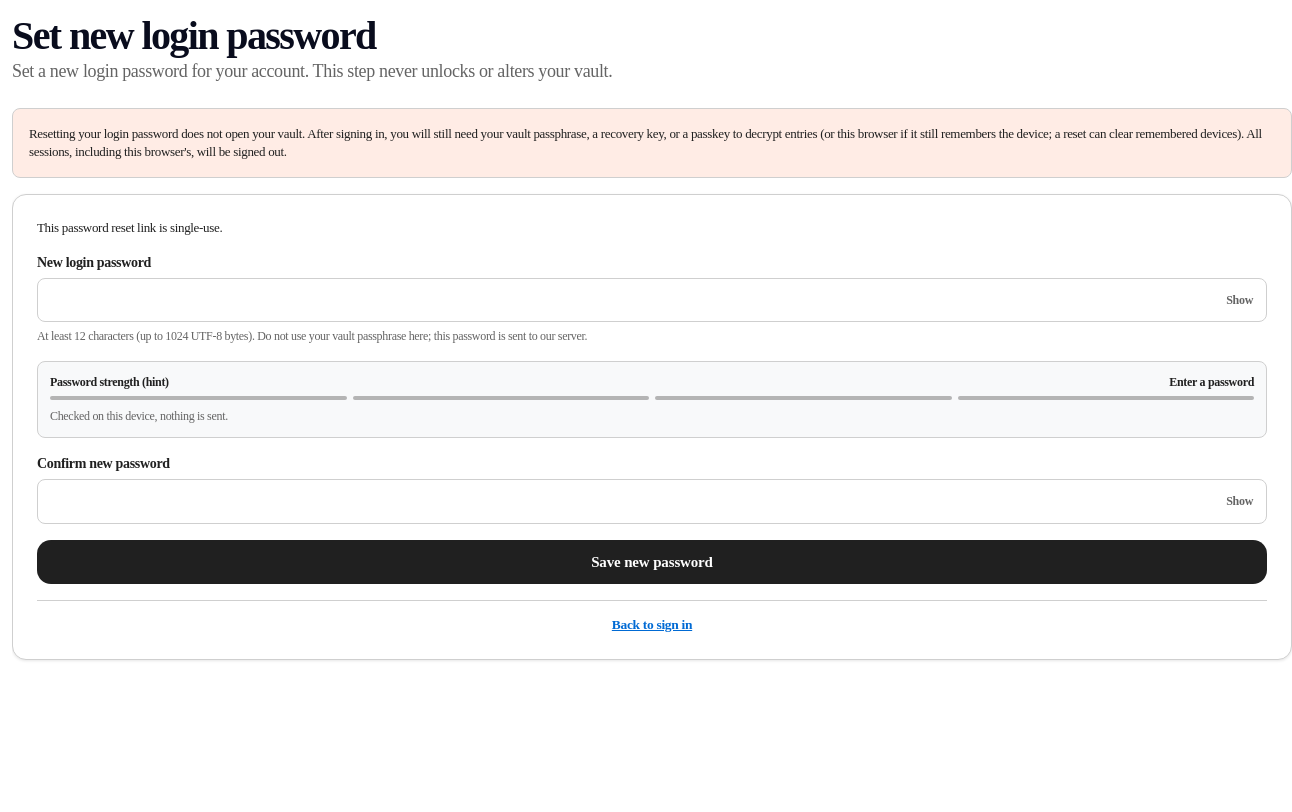
Test case: ResetPasswordForm token lifecycle, strict mode, and problem-code mapping (ADR 0006 §6.1-6.2, §9.2) › maps 400 reset_token_invalid to the invalid/expired token card and clears in-memory token
In the password field labelled "New login password": (652, 300) [37,278,1267,322], type "StrongReplacementPassword!2026"
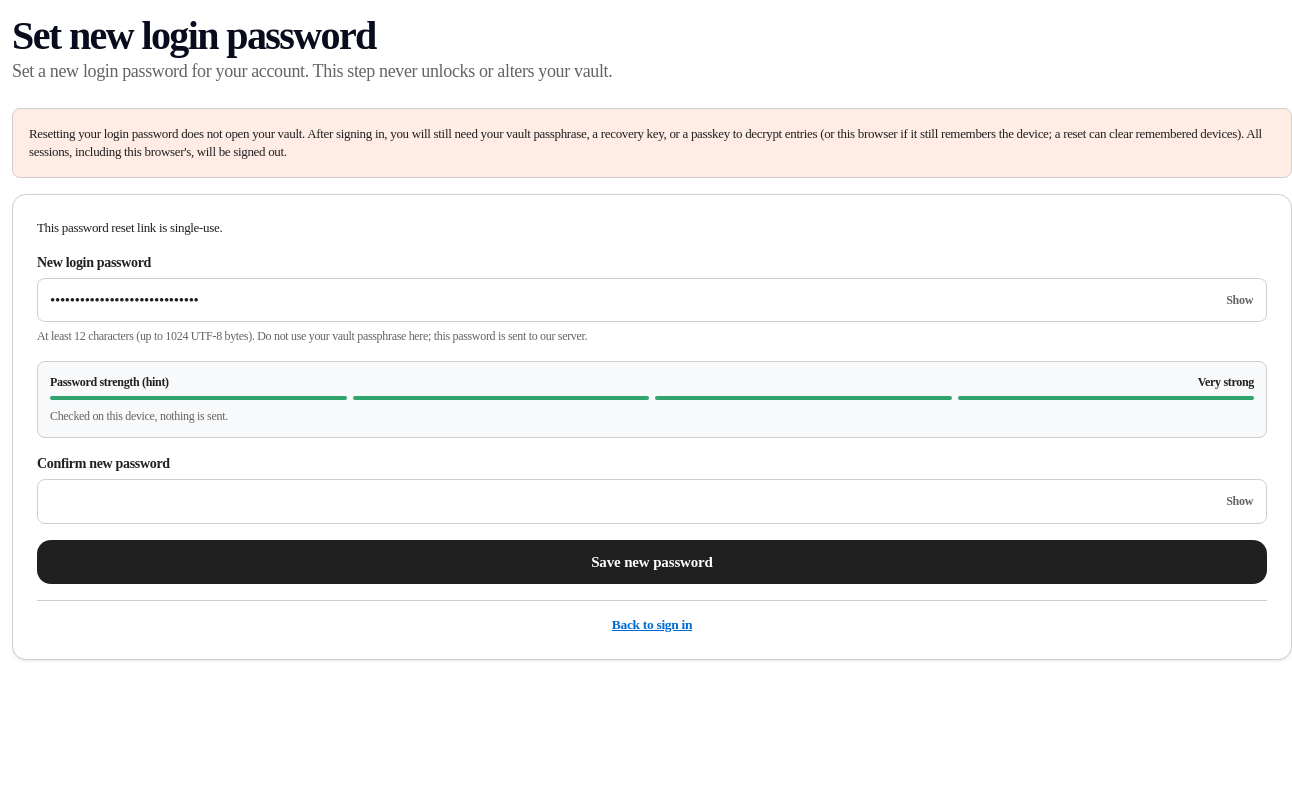
In the password field labelled "Confirm new password": (652, 502) [37,479,1267,524], type "StrongReplacementPassword!2026"
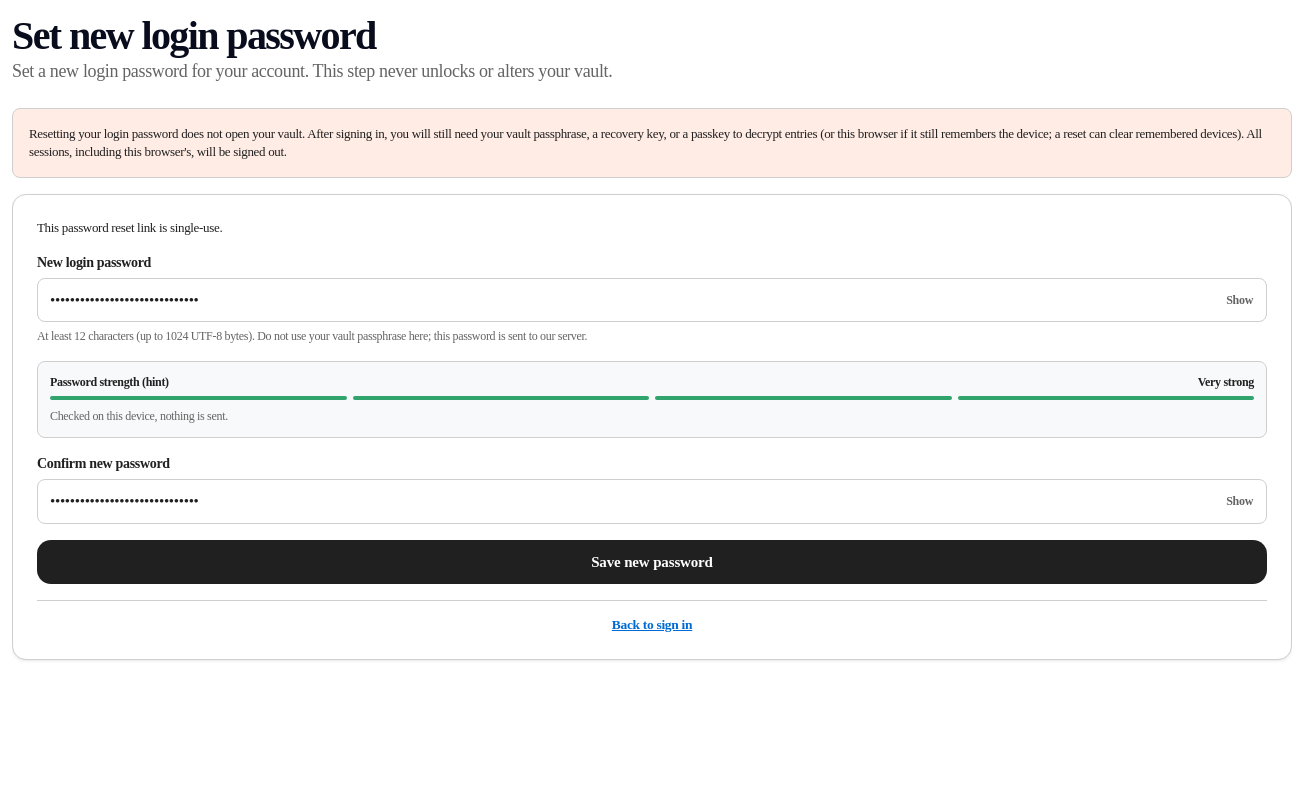
Submit the form labelled "New login password", box [12,194,1291,660]
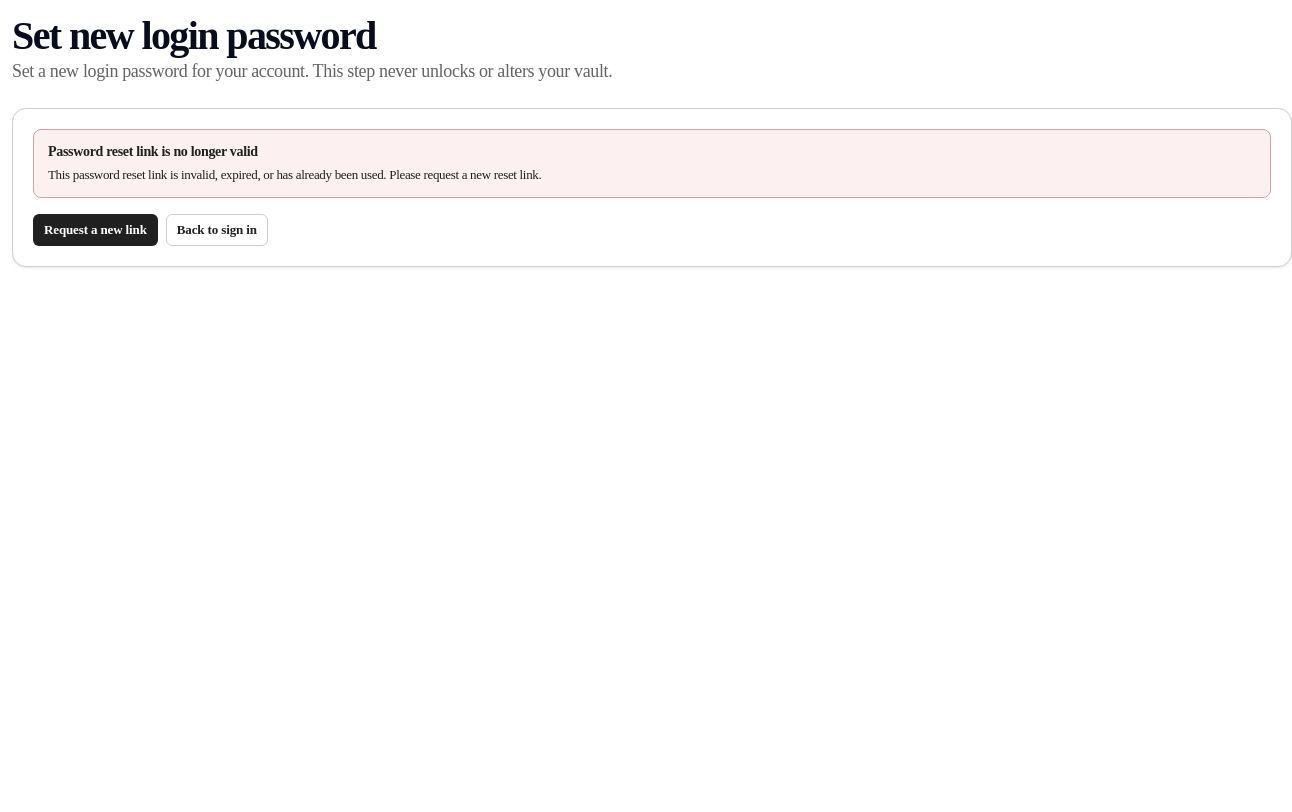
Now the element with test id "reset-invalid-token" is shown, box [12,108,1291,267]
Now the text "Password reset link is no longer valid" is shown, box [48,144,258,159]
